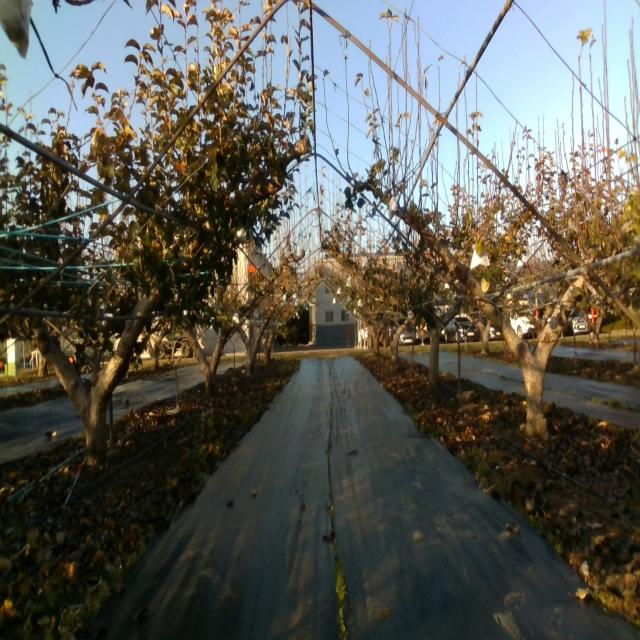pearbags: (0, 0, 32, 59), (470, 248, 490, 270), (233, 220, 247, 243), (388, 196, 398, 222)
